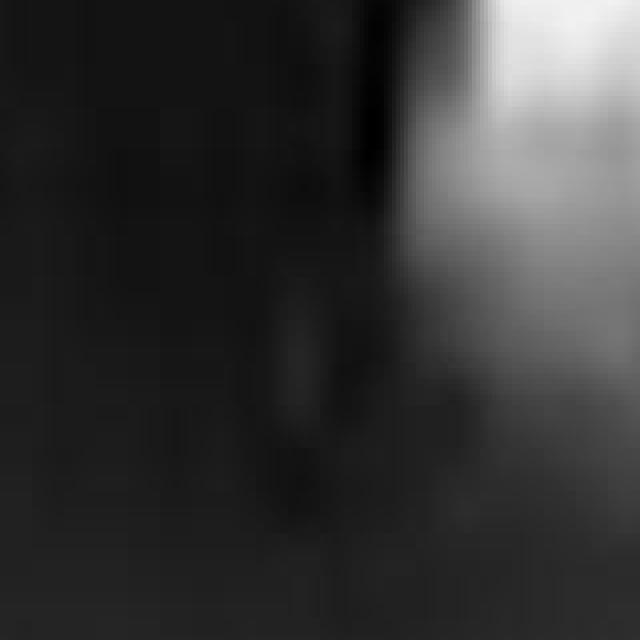person: (429, 1, 640, 449)
